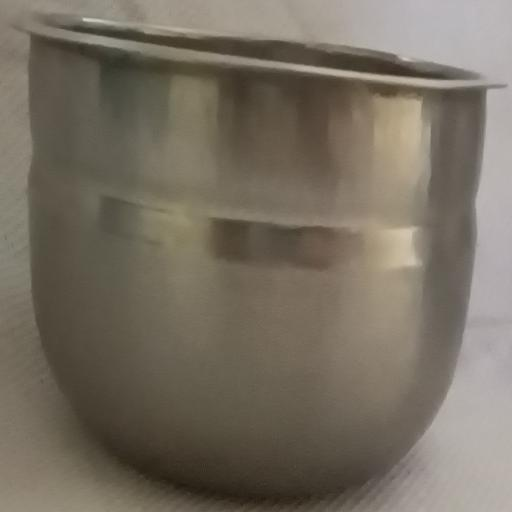vessel: (18, 15, 500, 502)
